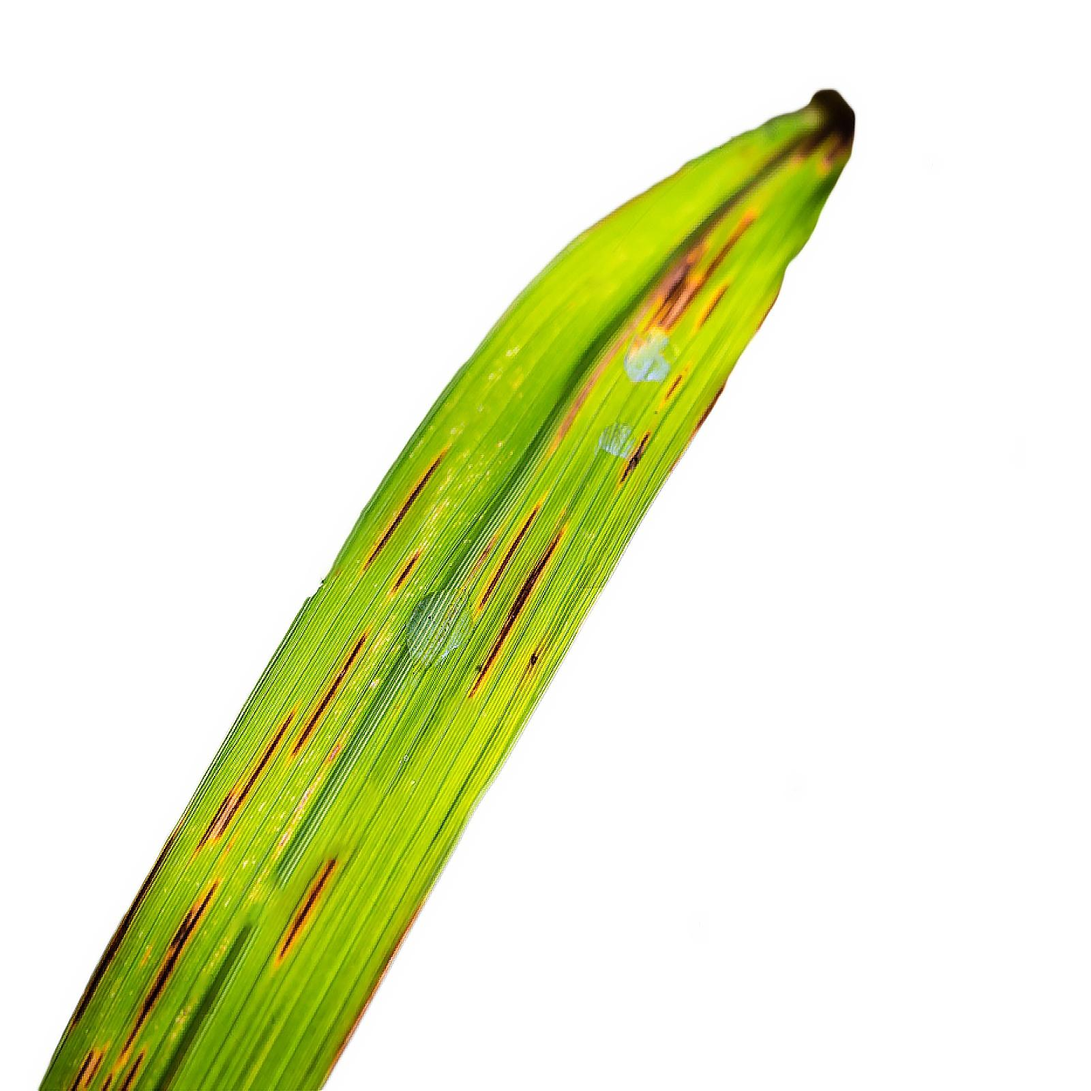LEAF: (42, 91, 854, 1090)
NBS: (553, 191, 748, 449), (70, 830, 177, 1028), (321, 899, 426, 1083), (123, 880, 218, 1051), (471, 528, 563, 696), (195, 712, 293, 851), (651, 213, 756, 331), (365, 452, 445, 565), (292, 634, 365, 756), (479, 503, 541, 609), (274, 860, 335, 966), (689, 382, 725, 440), (697, 282, 730, 328), (622, 432, 649, 482), (392, 551, 419, 593), (119, 1050, 145, 1090), (69, 1051, 95, 1090), (101, 1054, 126, 1090), (663, 375, 681, 404)
